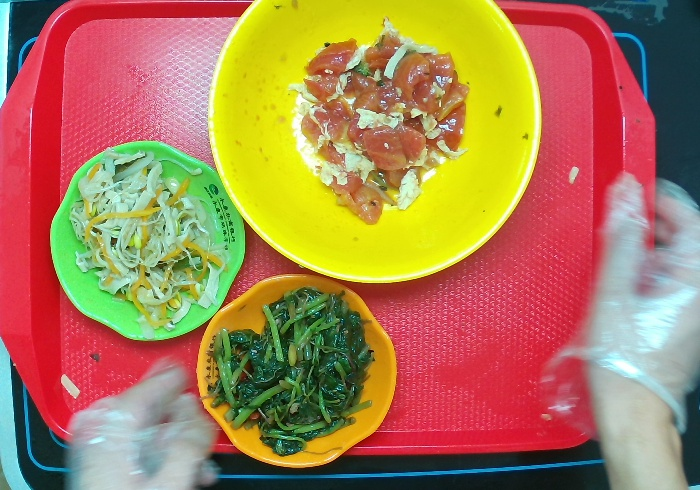YKMZ-Huang_Se_Tang_Wan: (206, 1, 544, 284)
YKMZ-Ju_Se_Ao_Bian_Wan: (193, 272, 399, 468)
YKMZ-Lv_Se_Ao_Bian_Wan: (49, 138, 248, 343)
